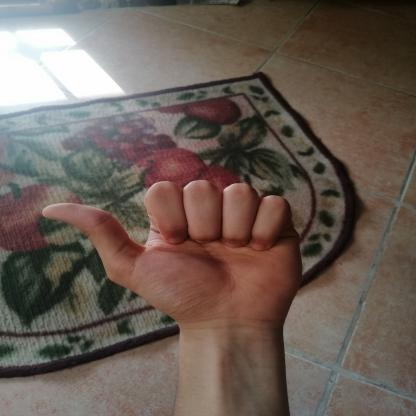DAD: (30, 170, 318, 341)
